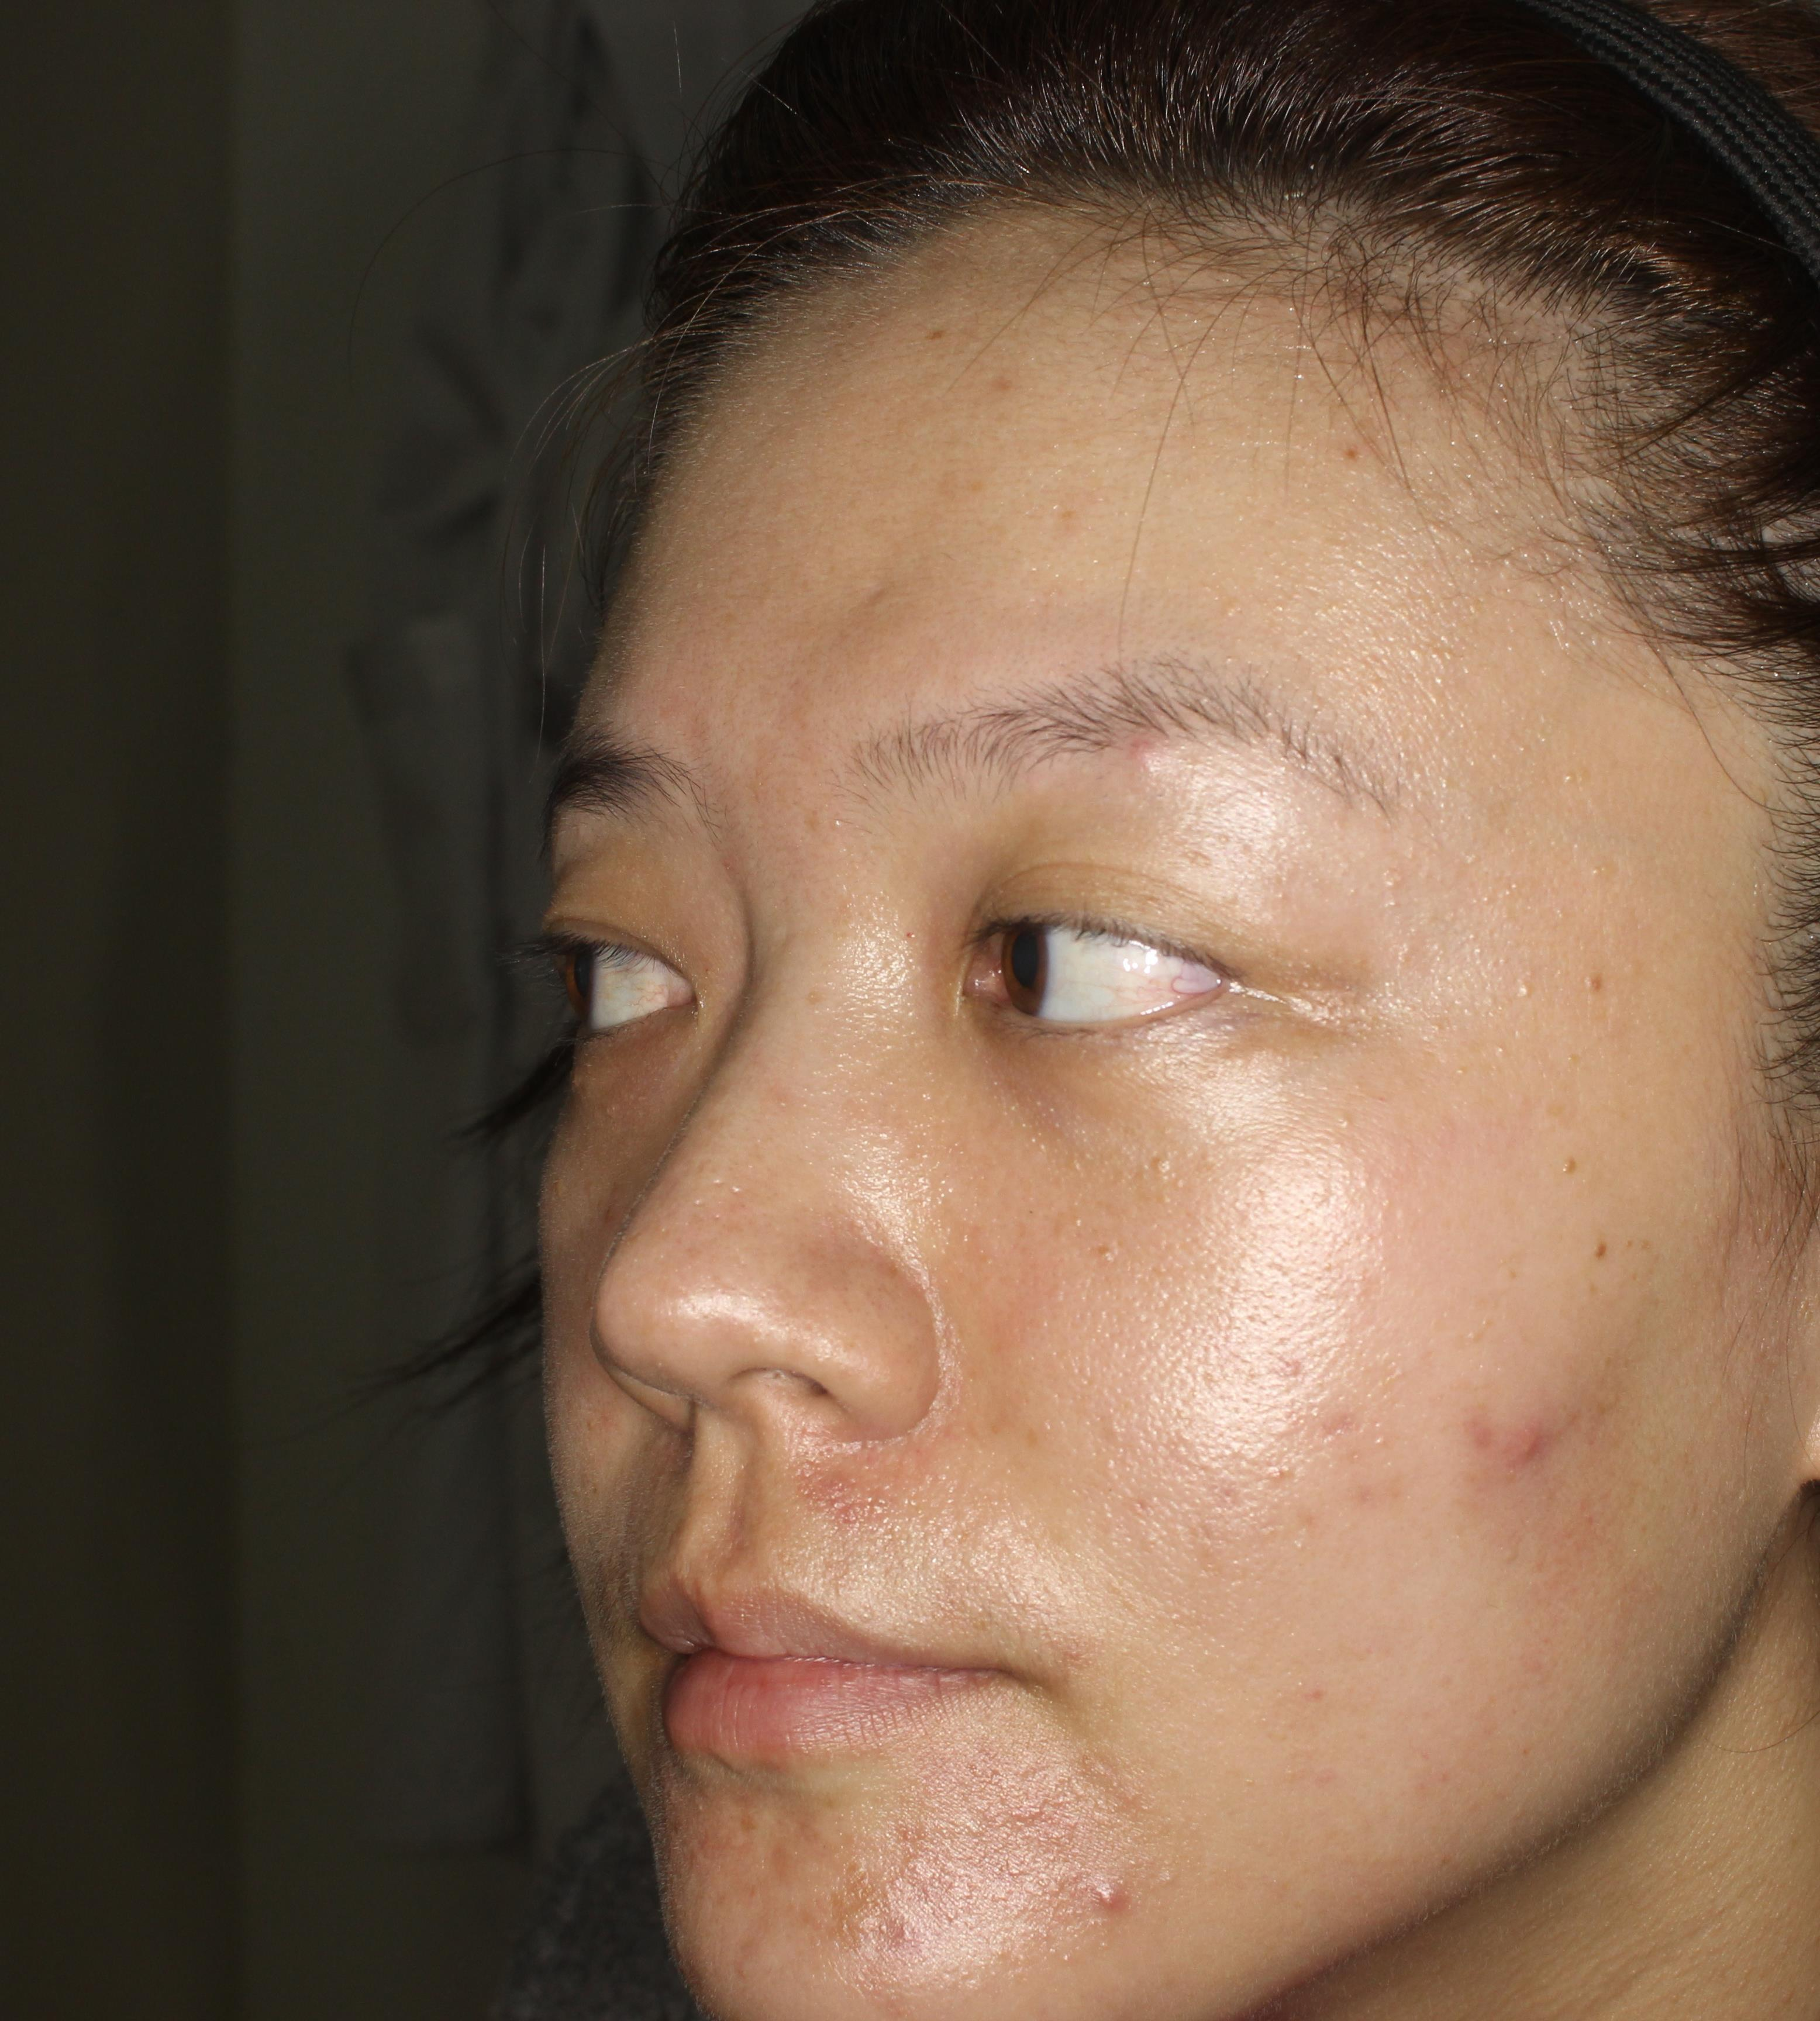fore: (1453, 1384, 1565, 1487), (1068, 1849, 1161, 1961)
